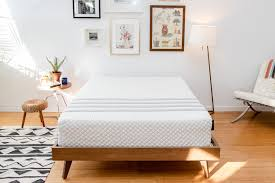bed-matress: (54, 74, 211, 149)
